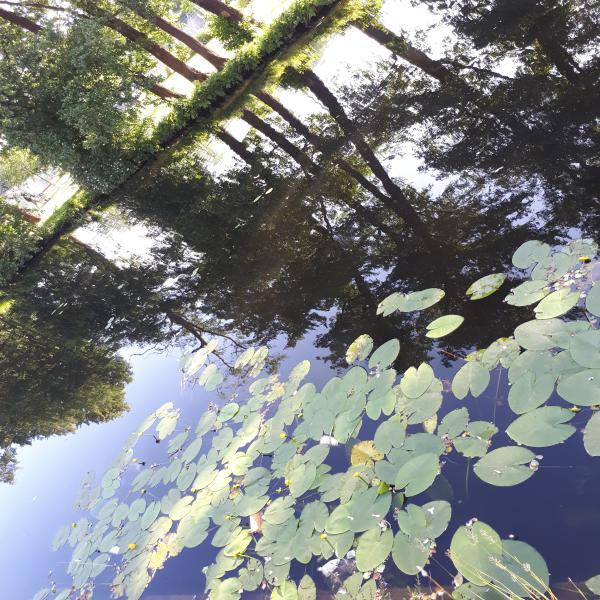others: (314, 553, 355, 580), (244, 512, 265, 533), (317, 432, 341, 445)
